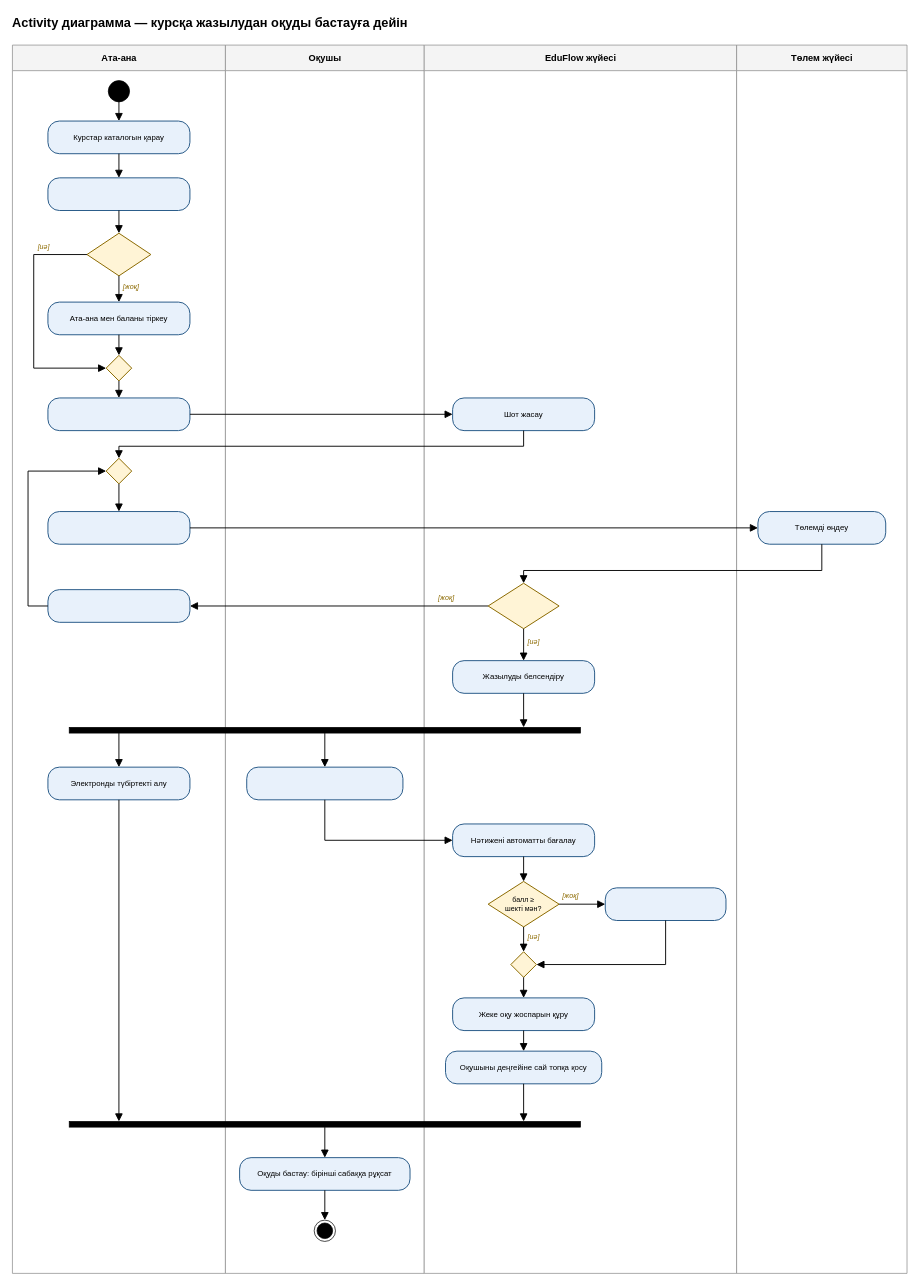
Image size: 919x1286. Some labels were removed from this diagram. Here are the shapes that lost their labels. From the top down, the centre of each, then its label:
the point at 118,194: Курсты таңдау
the point at 118,254: Аккаунт бар ма?
the point at 118,414: Курсқа өтінім беру
the point at 118,527: Төлем тәсілін таңдау (карта / QR)
the point at 118,605: Қате туралы хабарламаны алу
the point at 523,605: Төлем сәтті ме?
the point at 324,783: Деңгейді анықтау тестін тапсыру
the point at 665,904: Дайындық модулін қосу
